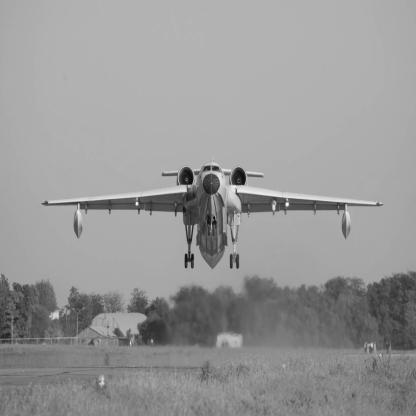Be200: (42, 156, 384, 273)
